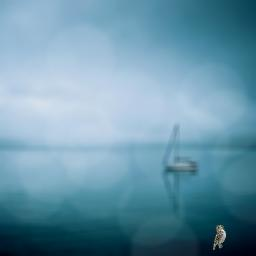Sparrow: (213, 225, 226, 250)
